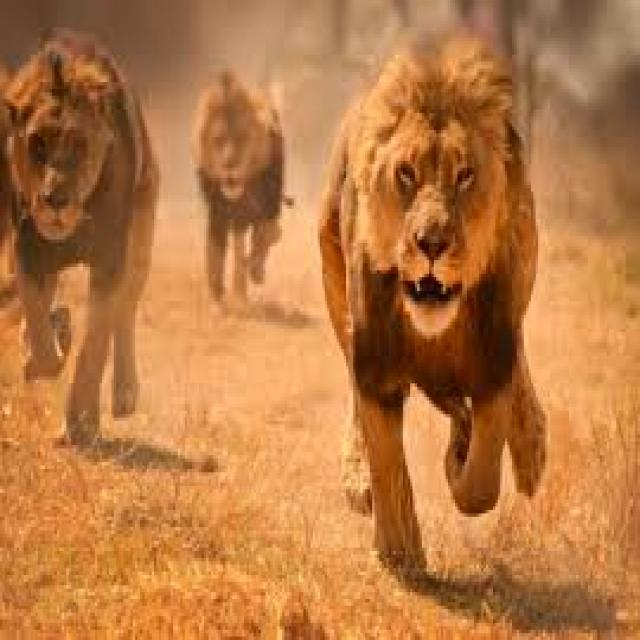lion: (318, 31, 545, 565), (0, 27, 156, 441), (192, 68, 292, 301)
